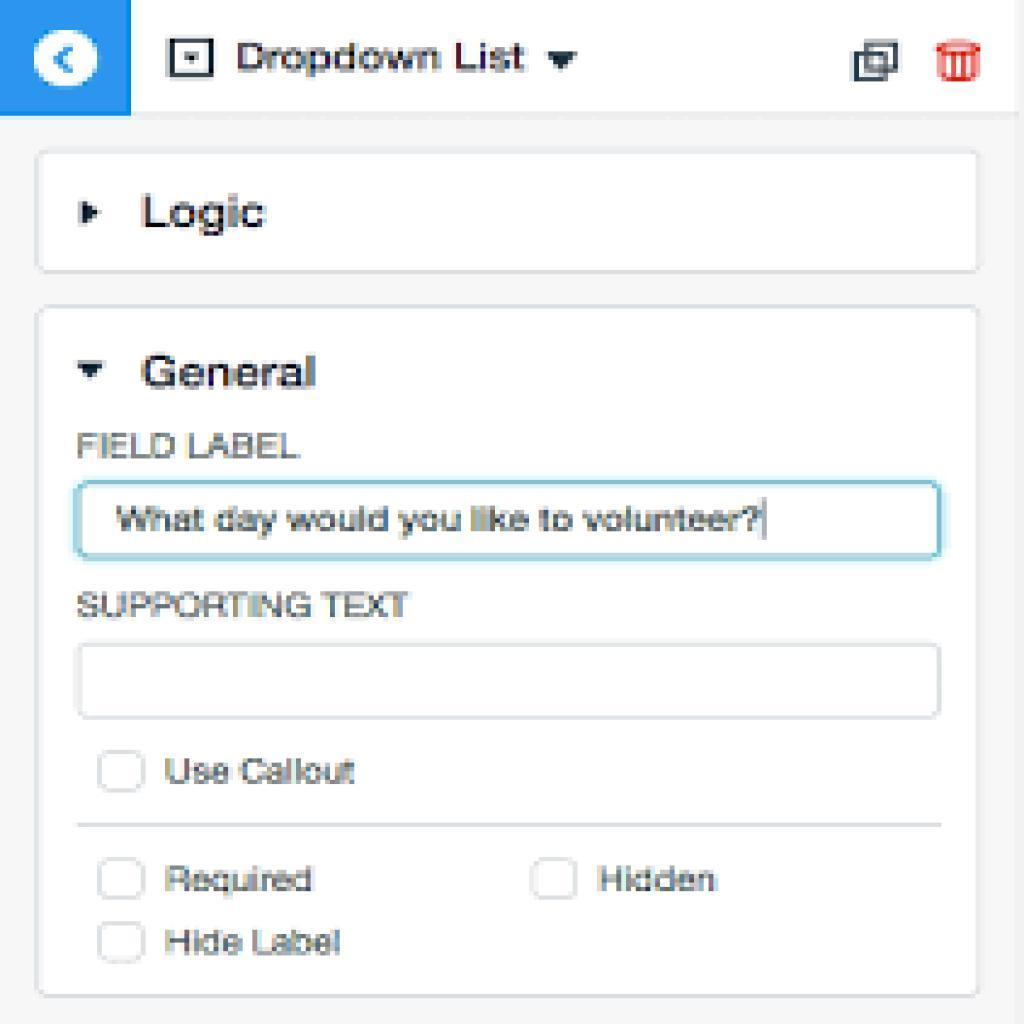checkbox: (98, 750, 146, 793), (99, 923, 146, 962), (533, 859, 576, 901), (99, 861, 146, 899)
icon: (2, 1, 134, 117), (851, 35, 905, 91), (934, 35, 991, 88), (168, 36, 218, 80), (538, 40, 589, 78), (67, 347, 111, 390), (70, 191, 111, 232)
input: (76, 482, 942, 563), (78, 645, 936, 715)
label: (235, 32, 531, 85), (135, 345, 329, 399), (138, 188, 272, 244)
